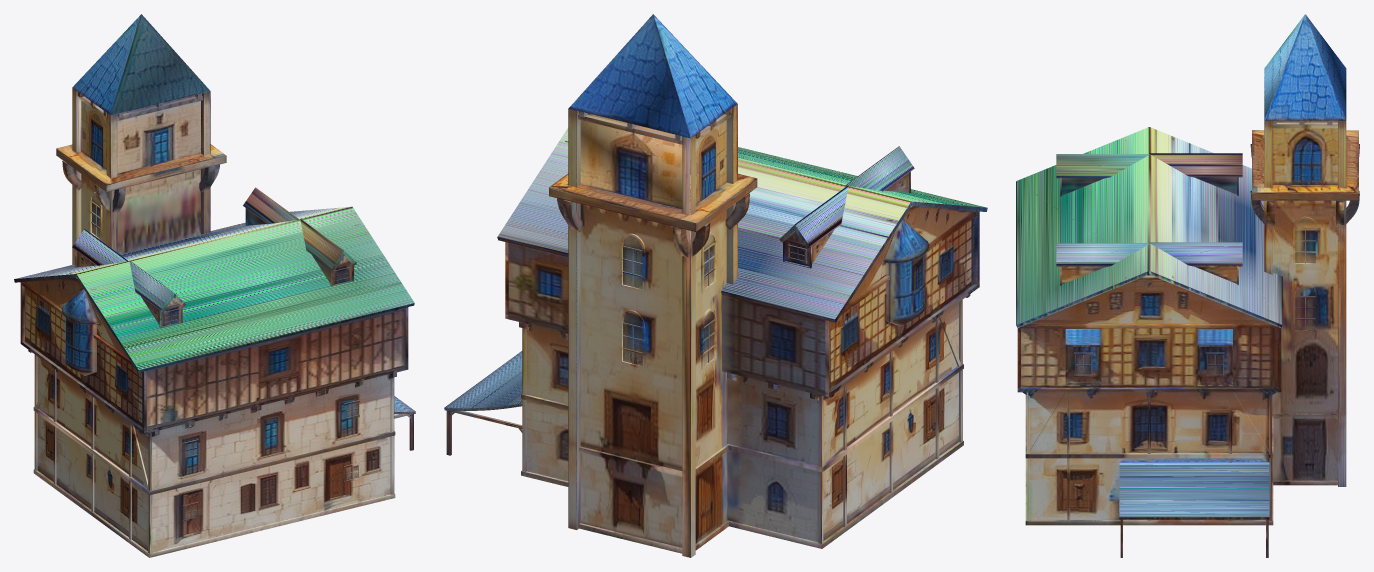
The model's file is house.glb.
The picture shows the model from 3 angles, left to right: view 1: azimuth 30°, elevation 25°; view 2: azimuth 150°, elevation 25°; view 3: azimuth 270°, elevation 25°; orthographic projection. The views are drawn at different scales.
Bounding box in the file's own units: 0.8388 × 1 × 0.6971.
Materials: 4 (4 with a texture image).
